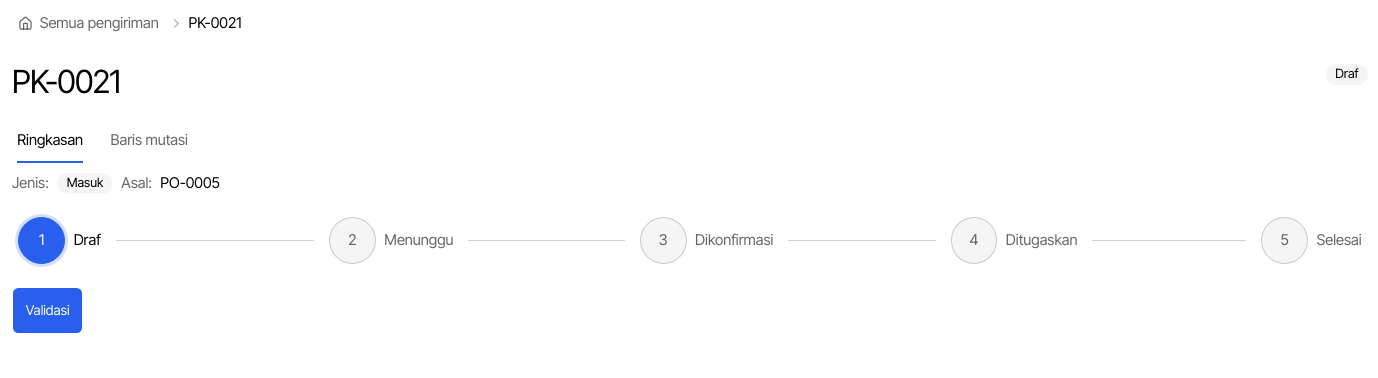
Test case: ShipmentDetail extra2 › renders cancelled move badges
The image size is (1378, 378).
Click the tab "Baris mutasi" at [149, 141], box top-left (110, 117), bottom-right (189, 164)
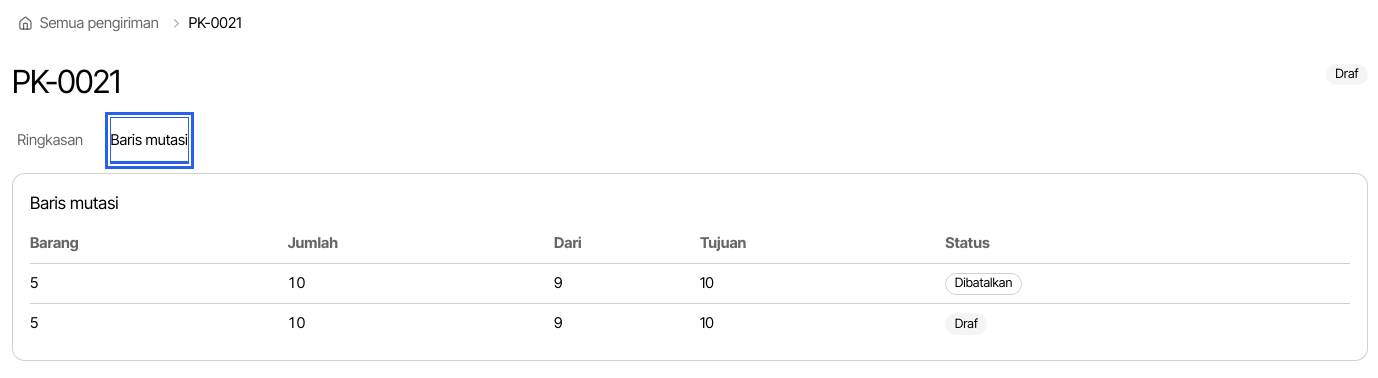
Expected: the button "Dibatalkan" is shown, top-left (945, 273), bottom-right (1022, 295)
